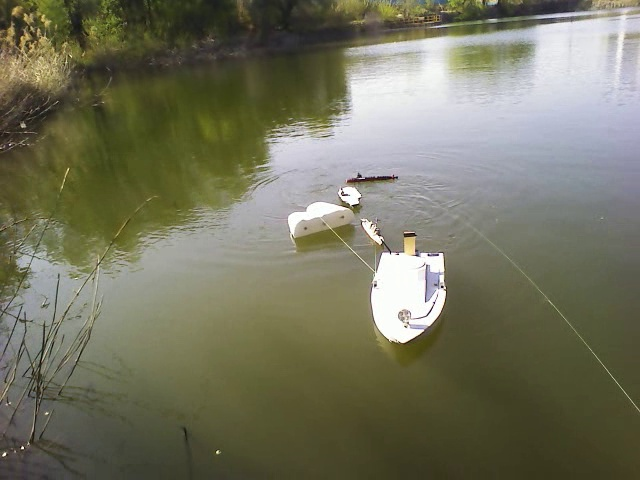aircraft_carrier: (337, 184, 365, 209)
boat: (371, 247, 450, 345)
iceberg: (289, 201, 354, 238)
submarine: (346, 168, 403, 183)
